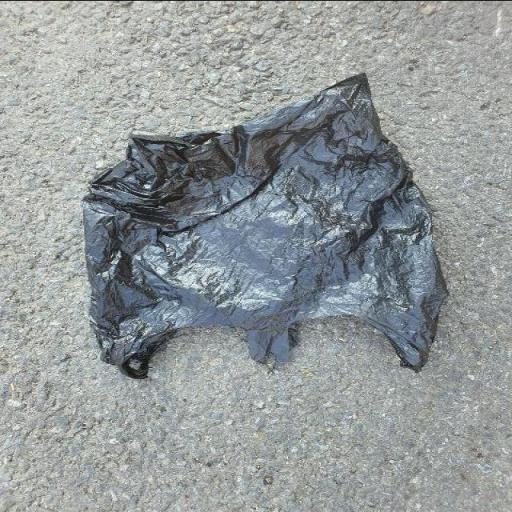plastic-bag: (82, 71, 452, 382)
